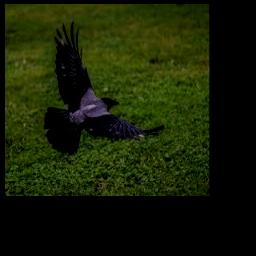Crow: (45, 20, 164, 155)
